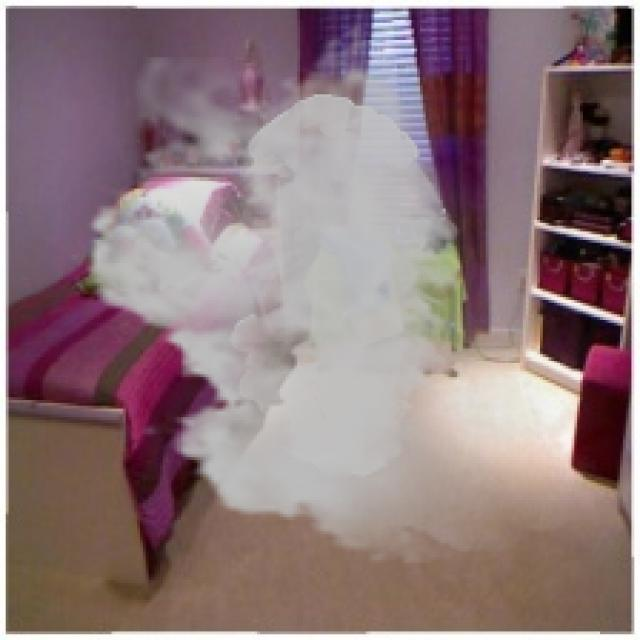smoke: (66, 23, 614, 563)
